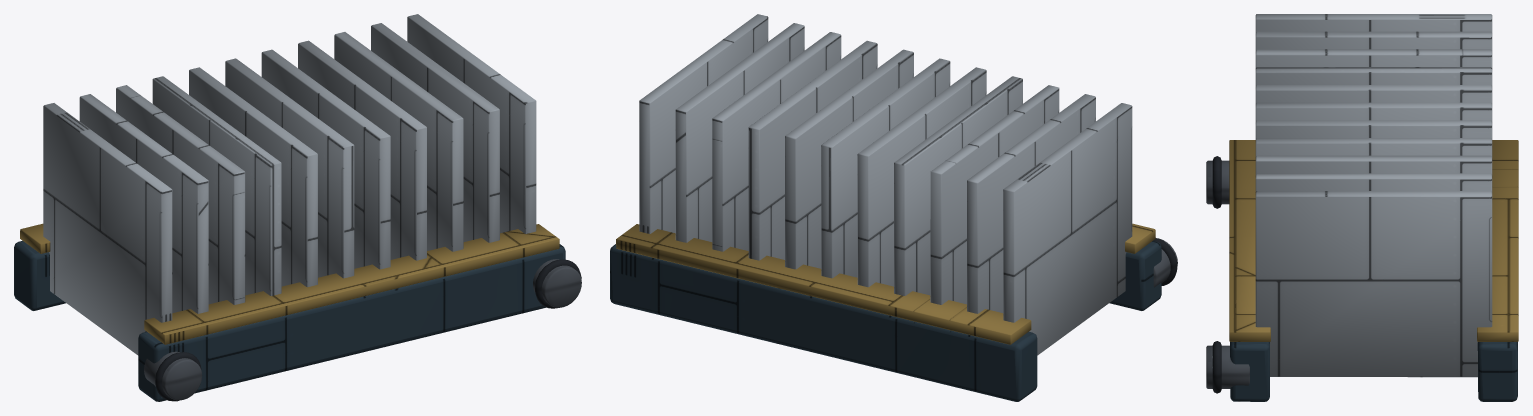
Rendered from ops_coolant_fin_cassette_lod1.glb.
3 views of the same model, side by side, from view 1: azimuth 30°, elevation 25°; view 2: azimuth 150°, elevation 25°; view 3: azimuth 270°, elevation 25° (orthographic).
Visible parts, largest first — view 1: LOD1_BrushedMetal, LOD1_Armor, LOD1_Hull, LOD1_Mechanical, LOD1_MechanicalDark; view 2: LOD1_BrushedMetal, LOD1_Armor, LOD1_Hull; view 3: LOD1_BrushedMetal, LOD1_Hull, LOD1_Armor, LOD1_Mechanical, LOD1_MechanicalDark.
Part boxes in pixels (x1,y1,x2,y2): LOD1_BrushedMetal: (43,14,536,355); LOD1_Armor: (14,241,565,401); LOD1_Hull: (20,223,559,344); LOD1_Mechanical: (144,259,581,400); LOD1_MechanicalDark: (155,259,581,401); LOD1_BrushedMetal: (639,14,1132,355); LOD1_Armor: (610,241,1161,401); LOD1_Hull: (616,223,1155,344); LOD1_BrushedMetal: (1255,14,1492,377); LOD1_Hull: (1229,140,1518,341); LOD1_Armor: (1230,342,1517,401); LOD1_Mechanical: (1206,160,1249,388); LOD1_MechanicalDark: (1212,156,1221,393).
Bounding box in the file's own units: 2.69 × 1.2 × 1.71.
Materials: 5 (5 with a texture image).
